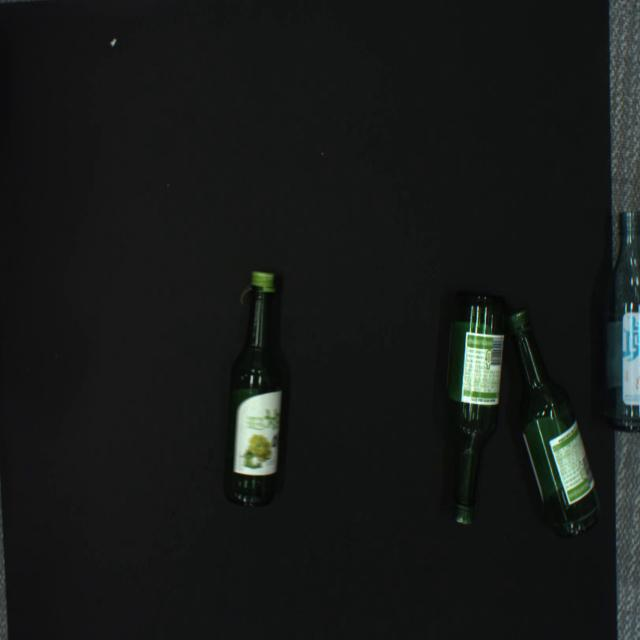soju-bottle: (507, 309, 602, 537), (222, 270, 283, 509), (444, 294, 507, 525), (602, 209, 640, 431)
